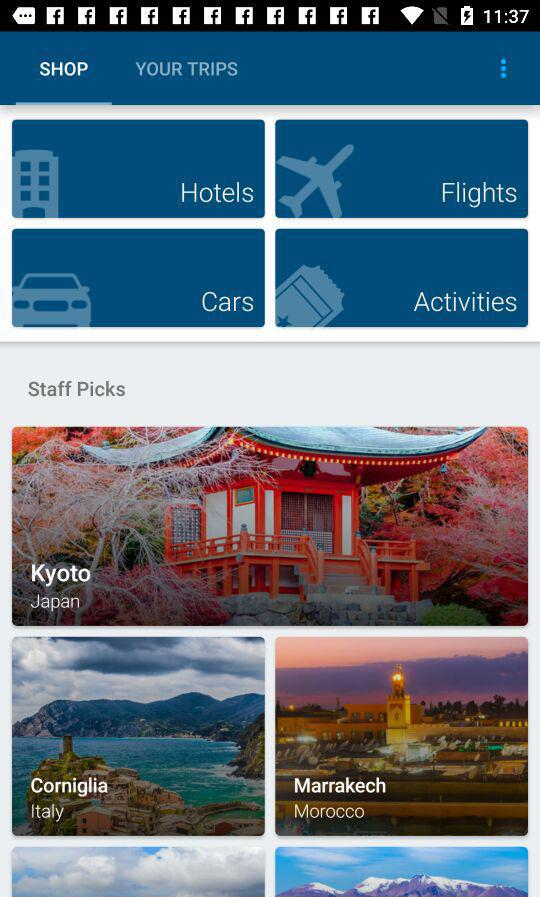Card: (12, 228, 266, 329), (274, 229, 529, 329), (275, 120, 529, 219), (12, 120, 266, 219)
Icon: (499, 57, 508, 80)
Image: (13, 427, 529, 627), (13, 636, 267, 836), (275, 637, 529, 836), (12, 846, 266, 897), (275, 846, 528, 897), (276, 145, 356, 219), (276, 264, 346, 328), (13, 273, 92, 328), (13, 151, 59, 218)
Text: (413, 292, 517, 313), (442, 182, 517, 209), (31, 776, 109, 798), (29, 381, 126, 398), (136, 62, 239, 78), (295, 776, 386, 794), (182, 182, 255, 204), (32, 564, 92, 588), (202, 291, 255, 313), (295, 803, 365, 819), (31, 593, 80, 612), (40, 62, 89, 78), (32, 803, 65, 822)
UpperTaskBar: (1, 1, 540, 33)
